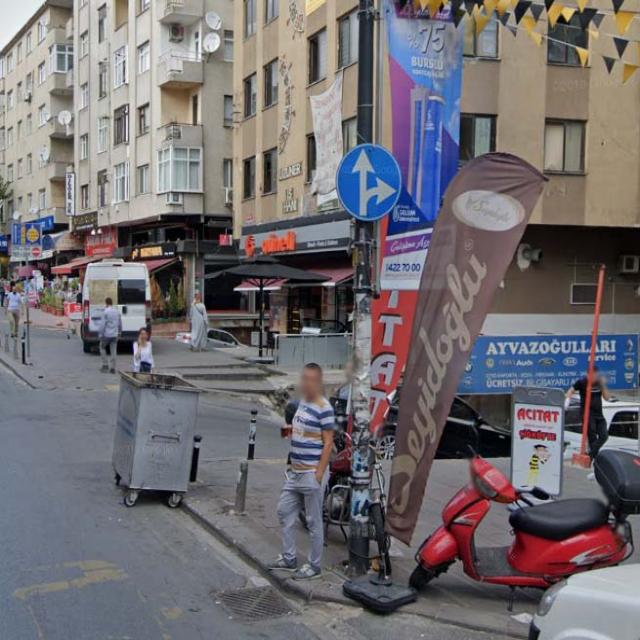ilerisag: (336, 144, 402, 221)
